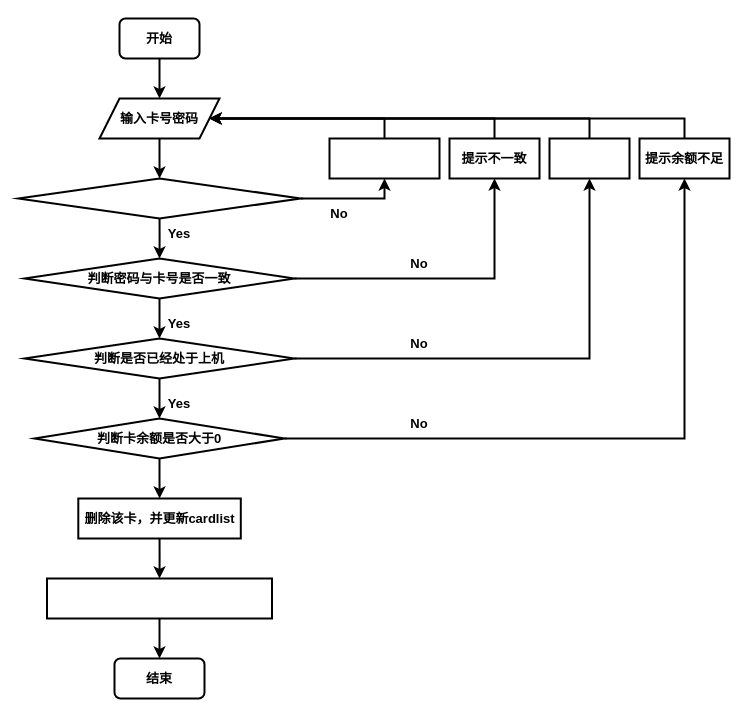
The diagram is 748 pixels wide and 716 high, and some of its shapes have lost their labels. Here are the shapes that lost their labels. From the top down, the centre of each, then its label:
At point 384,158: "提示长度不合适".
At point 589,158: "提示已上机".
At point 159,198: "判断密码与卡号长度是否合适".
At point 159,598: "分别将cardlist保存进card.ams".
